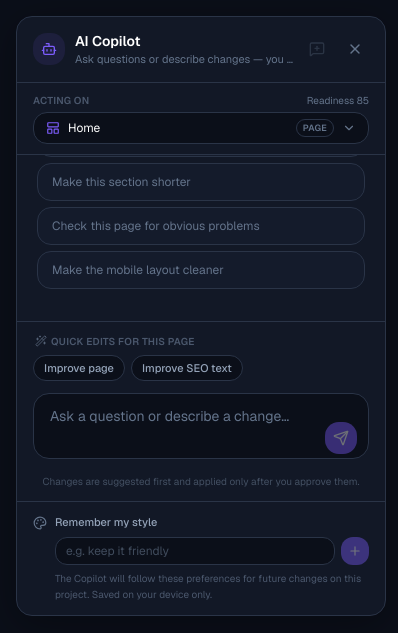
element quick actions › routes page quick actions through the normal message flow
This screenshot has width=398, height=633.
(page scrolled)
# Page quick actions are available without a selection.
Click the button with test id "copilot-quick-improve-page": (79, 368) top-left (33, 354), bottom-right (125, 381)
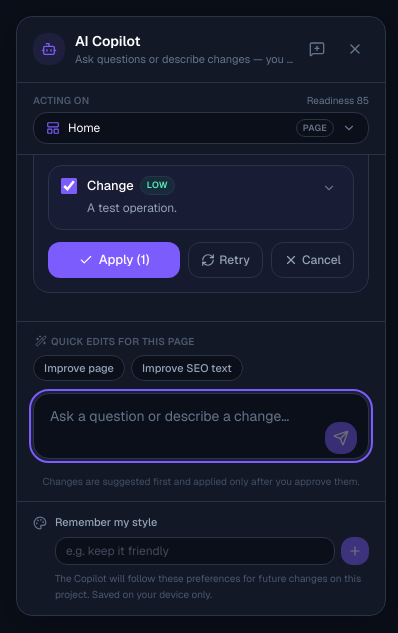
Expected: the element with test id "copilot-plan-review" is shown, top-left (33, 154), bottom-right (369, 293)
